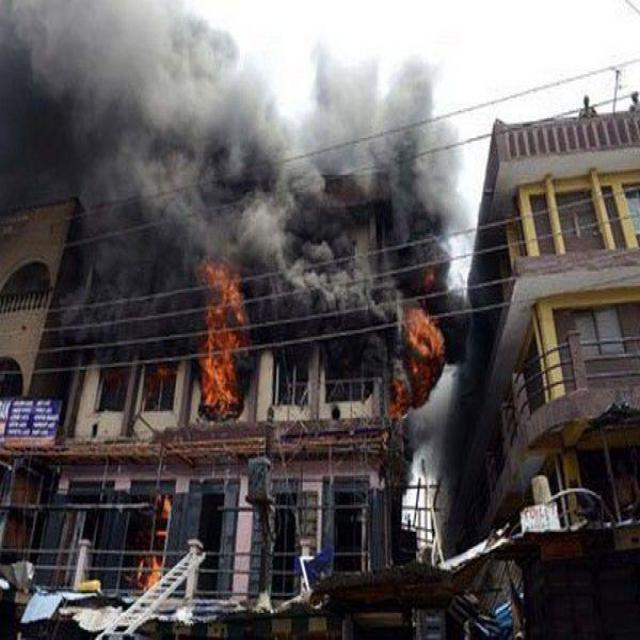Fire: (199, 257, 256, 431), (382, 296, 456, 420), (142, 489, 176, 609)
